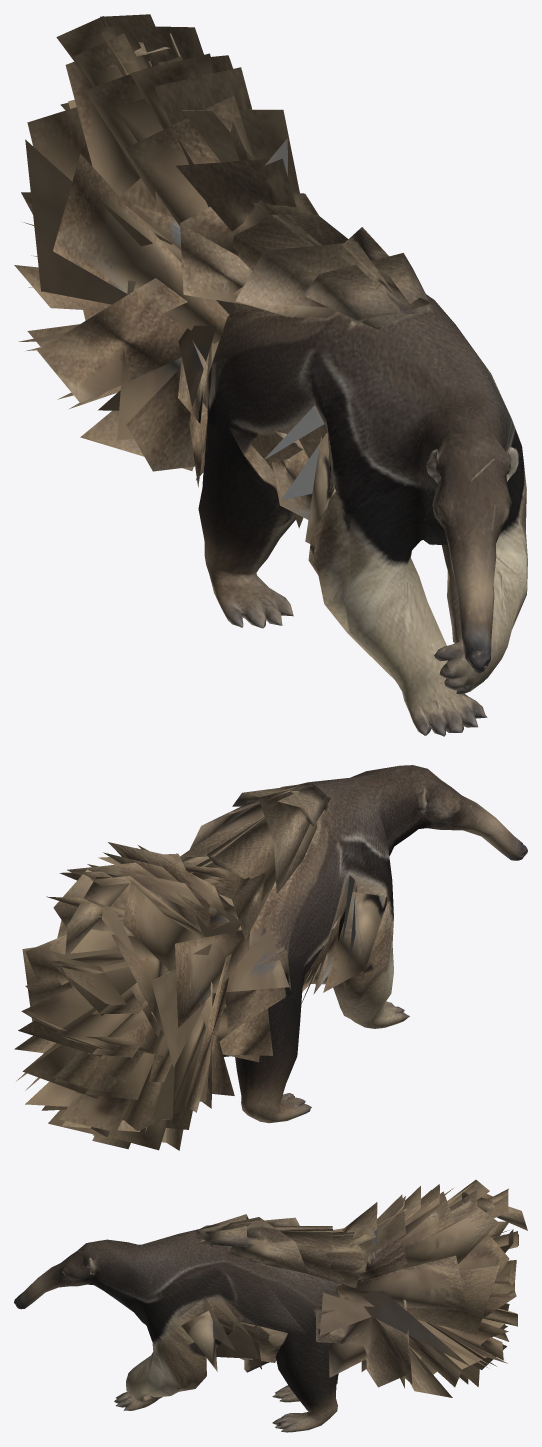
Rendered from tamandua_bandeira.glb.
3 renders of one model, top to bottom at view 1: azimuth 30°, elevation 25°; view 2: azimuth 150°, elevation 25°; view 3: azimuth 270°, elevation 25°, orthographic. The views are drawn at different scales.
Bounding box in the file's own units: 0.2378 × 0.4531 × 0.9419.
1 material, 1 textured.
